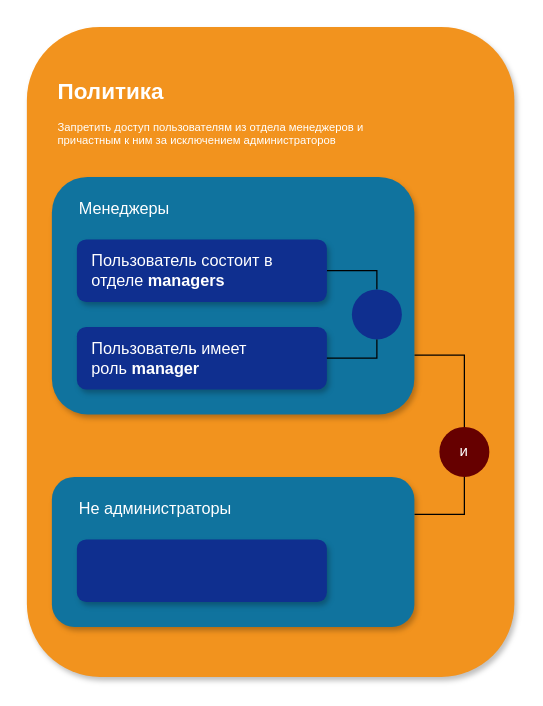
Image size: 543x706. Some labels were removed from this diagram. Each missing label, with the centre of its shape:
"или" goes at pixel 376 314.
"Пользователь не является администратором" goes at pixel 202 572.
